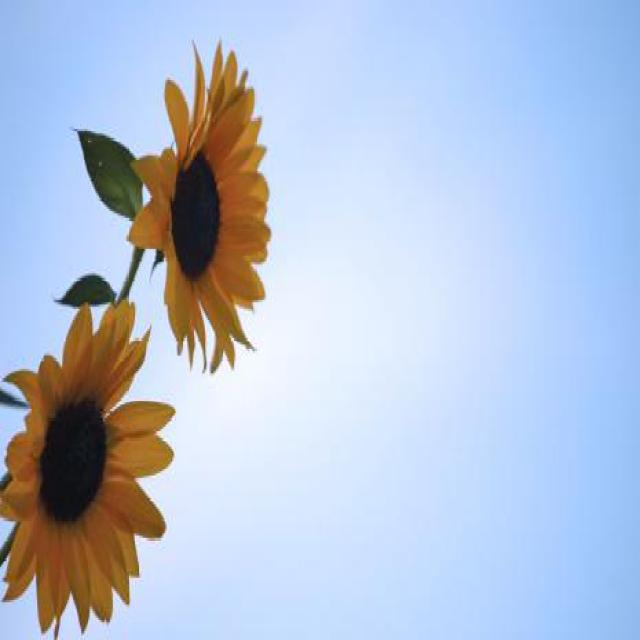sunflower: (3, 302, 175, 634), (128, 40, 272, 376)
